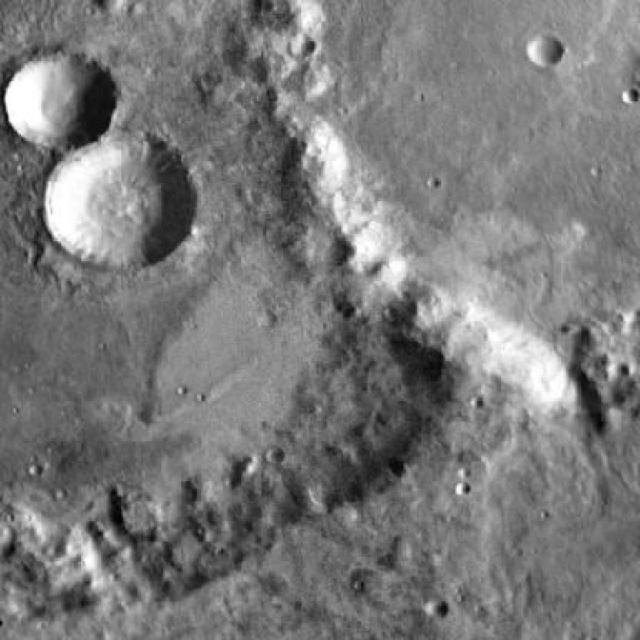crater: (0, 4, 463, 640), (232, 0, 640, 402), (47, 137, 199, 272), (12, 56, 112, 158), (525, 33, 563, 67), (272, 46, 294, 66), (422, 597, 444, 617)
